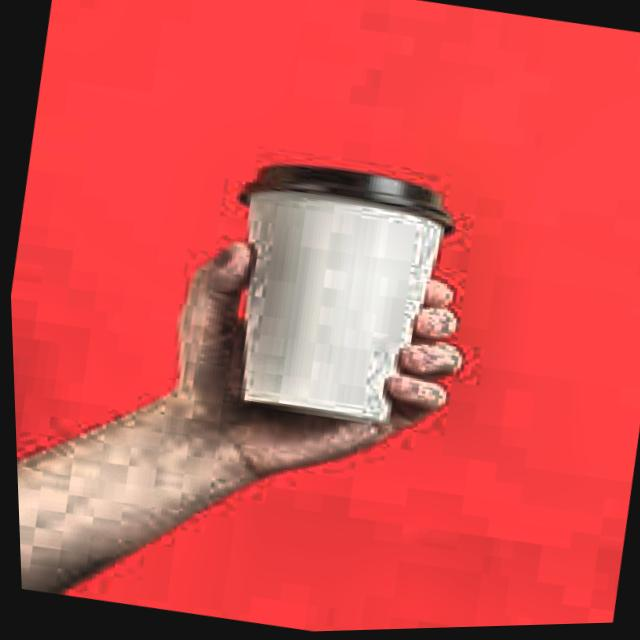Cup: (190, 168, 448, 441)
